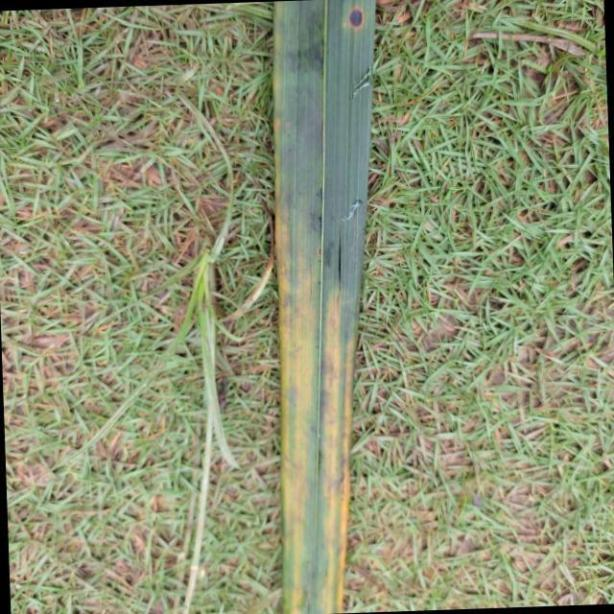Megnesium: (268, 1, 374, 614)
